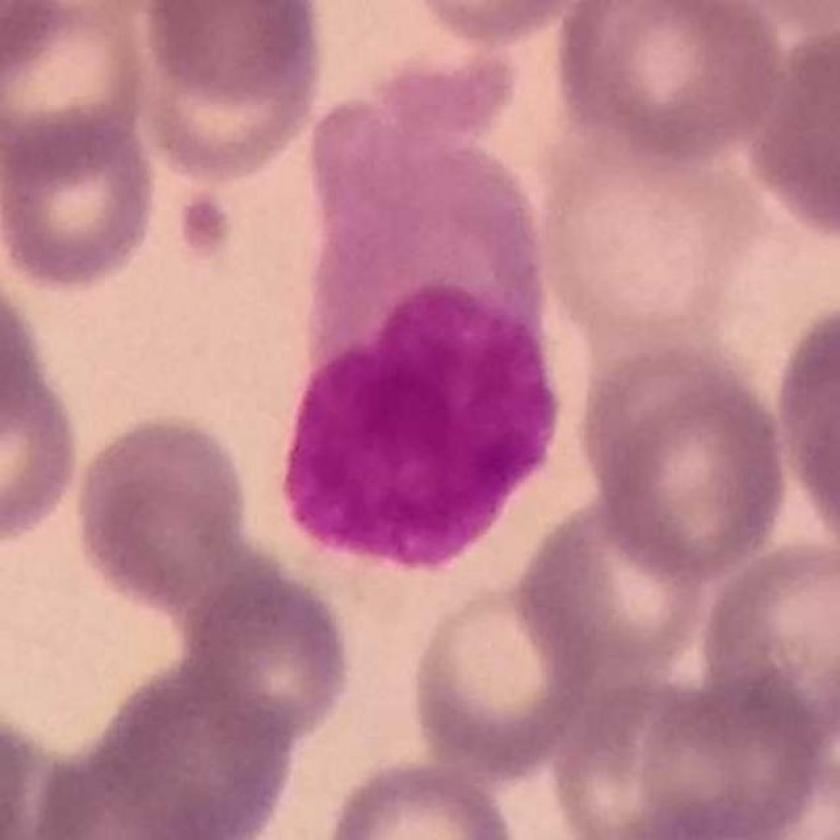monocyte: (281, 48, 562, 576)
